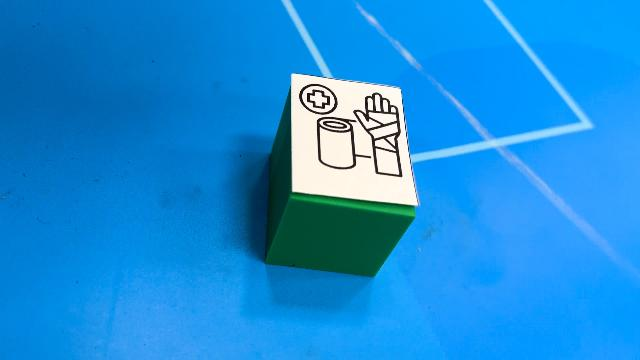bandage: (264, 73, 420, 277)
